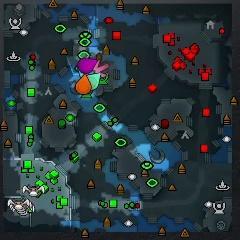p2: (87, 73, 101, 91)
p3: (78, 58, 97, 74)
p5: (76, 74, 91, 94)
x1: (92, 60, 110, 78)
x3: (78, 69, 85, 78)
x5: (96, 53, 107, 65)
